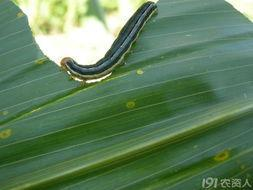caterpillars: (53, 0, 165, 87)
